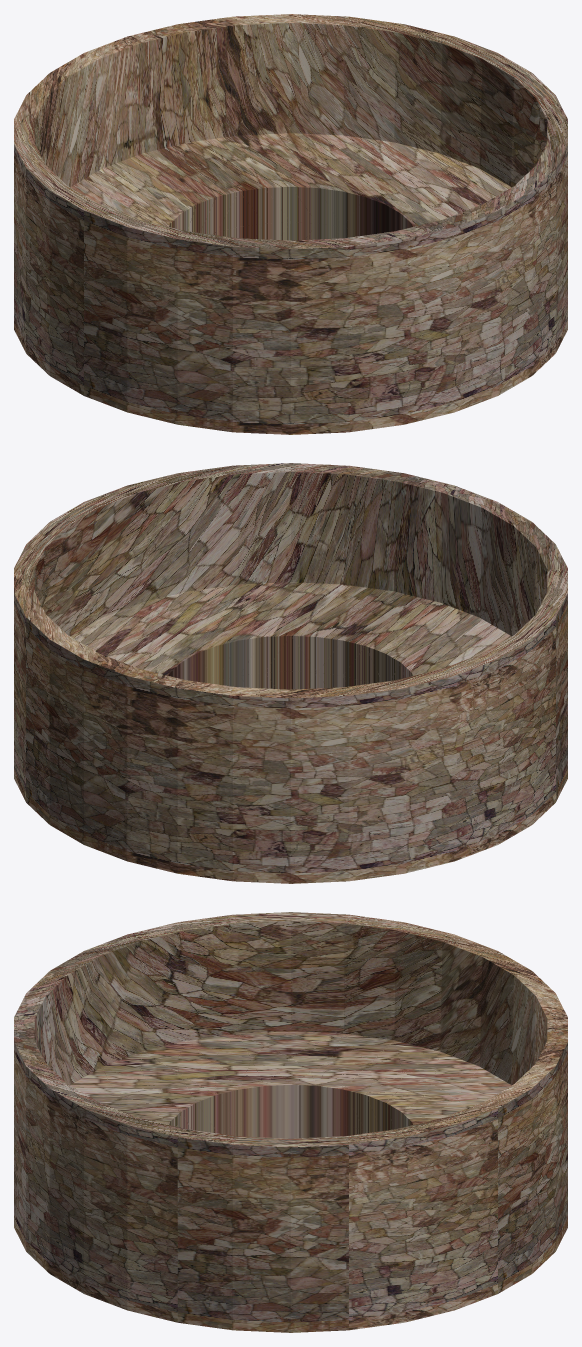
File: arena.fbx
3 renders of one model, top to bottom at view 1: azimuth 30°, elevation 25°; view 2: azimuth 150°, elevation 25°; view 3: azimuth 270°, elevation 25°, orthographic.
Parts seen in each view (by area): view 1: arena:pCylinder1; view 2: arena:pCylinder1; view 3: arena:pCylinder1.
Boxes of the visible parts, x1=… form: arena:pCylinder1: x1=14, y1=14, x2=567, y2=434; arena:pCylinder1: x1=14, y1=463, x2=567, y2=883; arena:pCylinder1: x1=14, y1=912, x2=567, y2=1332.
Size of the model in its own units: 378 by 139 by 376.
Materials: 1 (1 with a texture image).
